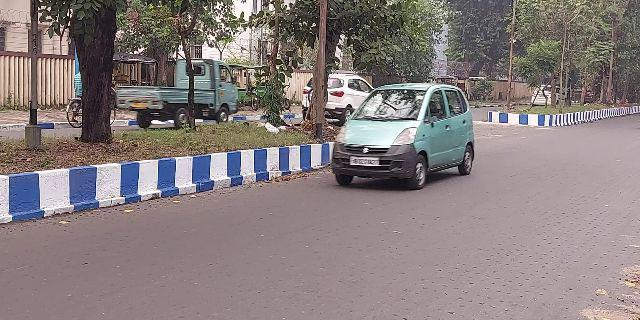Car: (327, 77, 481, 186)
Minitruck: (113, 53, 246, 129)
